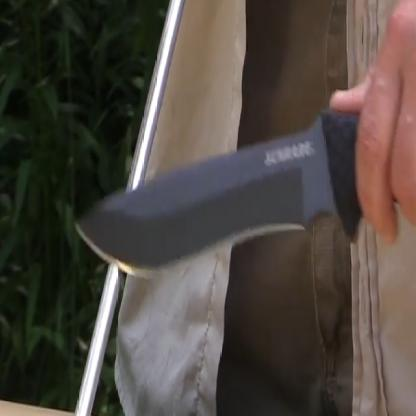knife: (59, 73, 415, 296)
